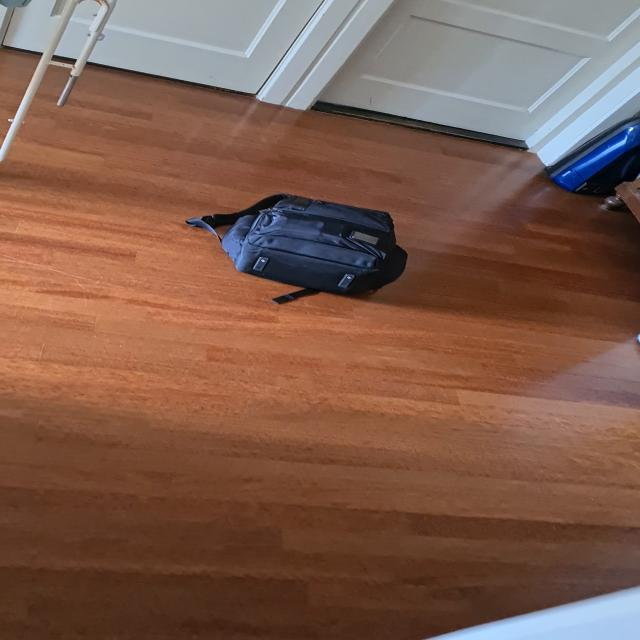backpack: (217, 188, 413, 303)
